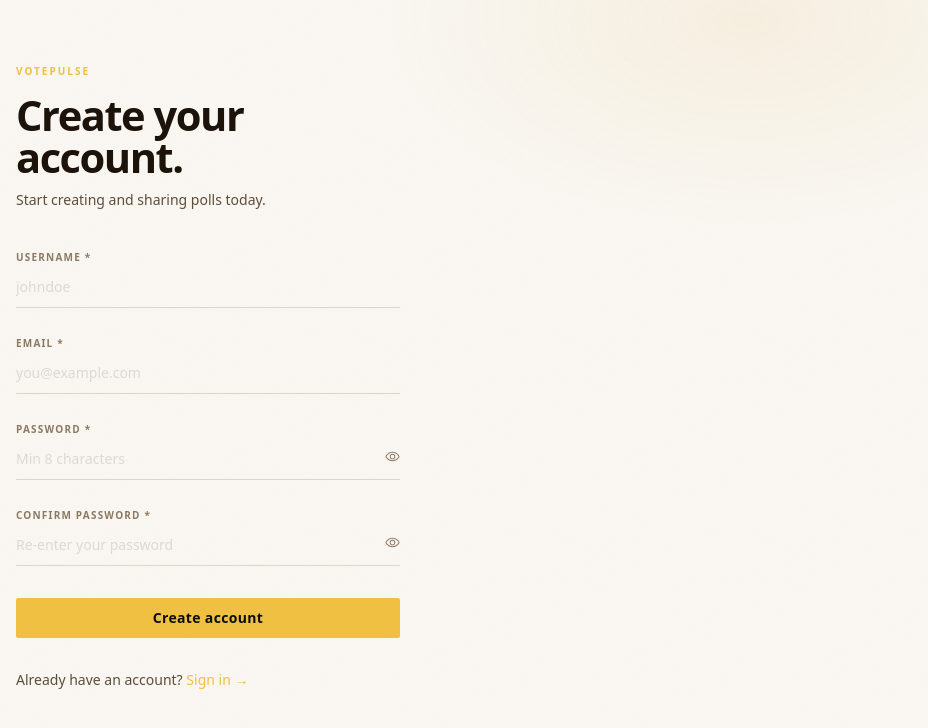
Scenario: Register Page › validates username allows only alphanumeric + underscore
Type "bad user!" into the field with placeholder "johndoe" at [208, 291], box [16,273,400,308]
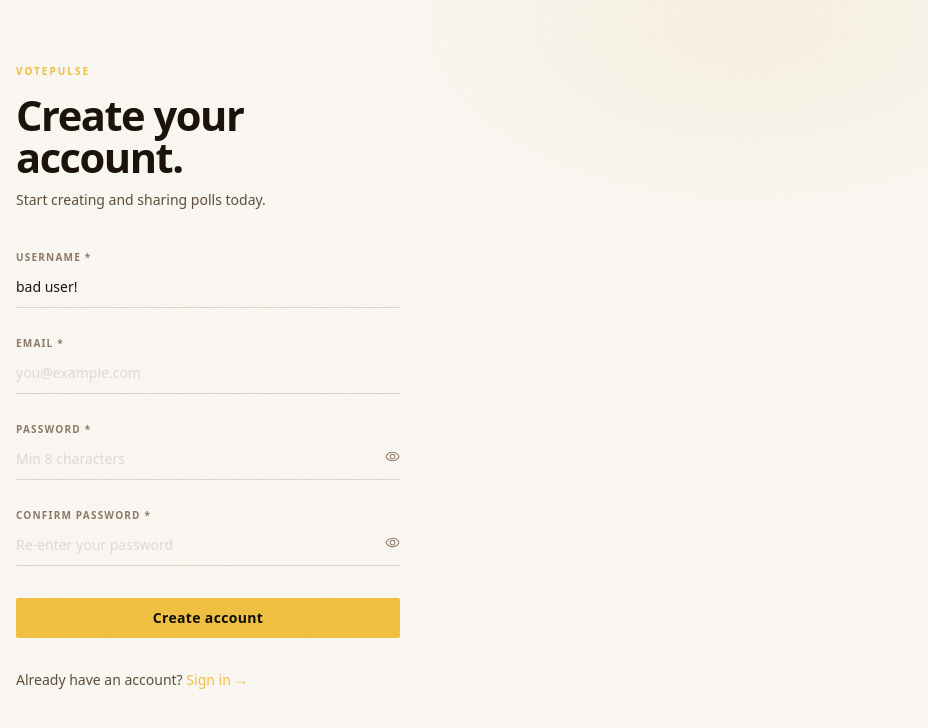
Type "a@b.com" into the field with placeholder "you@example.com" at [208, 377], box [16,359,400,394]
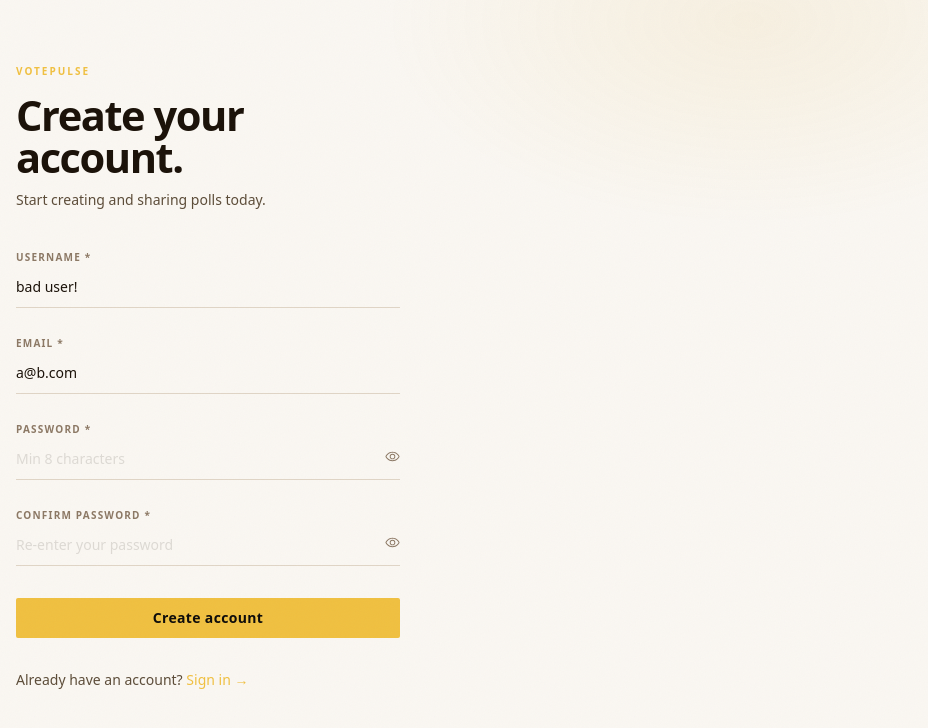
Type "password123" into the password field with placeholder "Min 8 characters" at [208, 463], box [16,445,400,480]
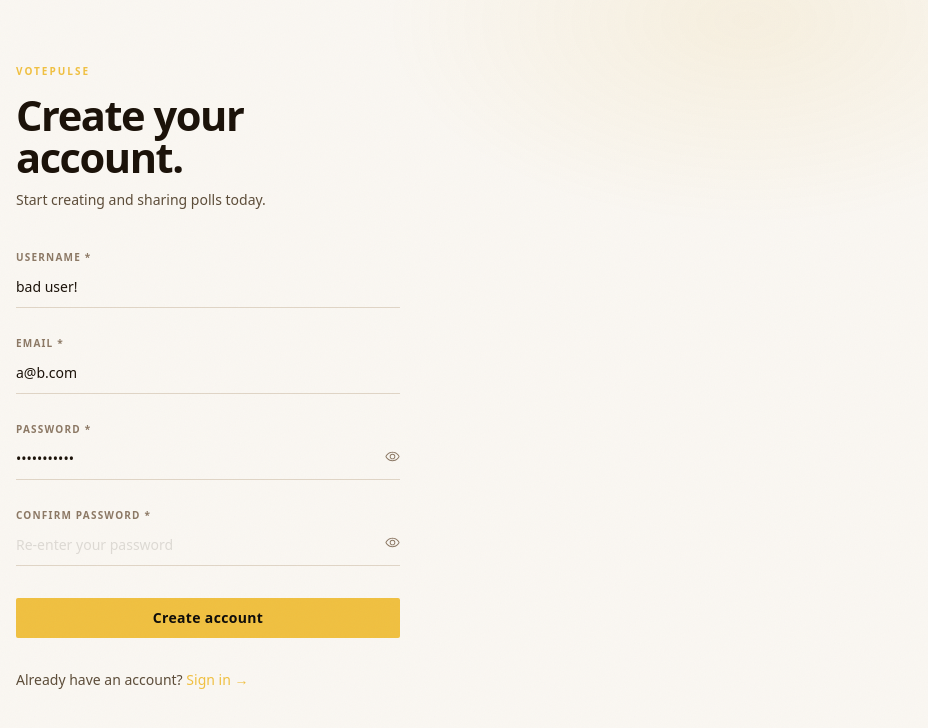
Type "password123" into the password field with placeholder "Re-enter your password" at [208, 549], box [16,531,400,566]
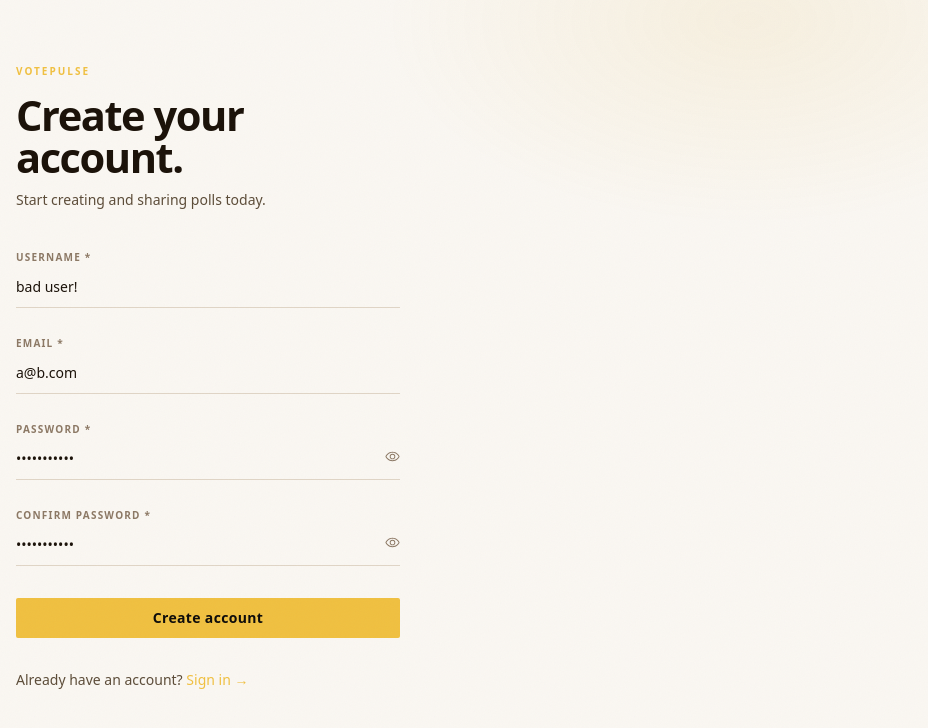
Click the button "Create account" at [208, 618], box [16,598,400,638]
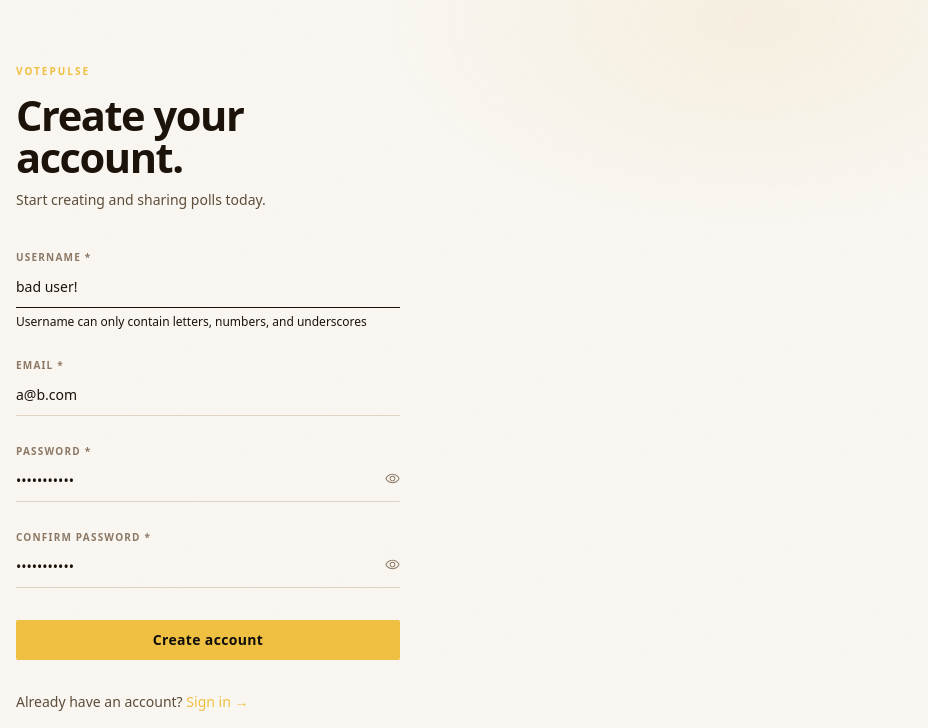
Expected: the text "Username can only contain letters, numbers, and underscores" is shown, [16,314,400,330]
